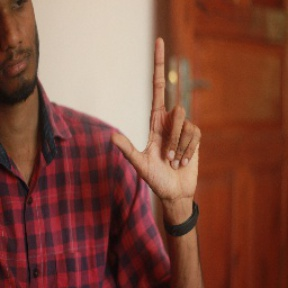L: (108, 38, 203, 196)
